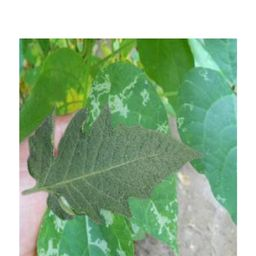liriomyza: (87, 69, 139, 122), (149, 197, 178, 241), (84, 214, 111, 256), (39, 238, 70, 256), (48, 210, 68, 232), (140, 86, 150, 107), (176, 116, 188, 133), (156, 120, 169, 133)
